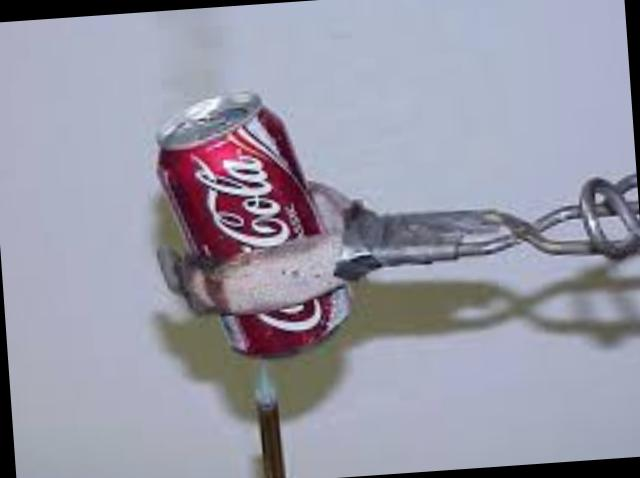metal: (156, 96, 319, 260)
